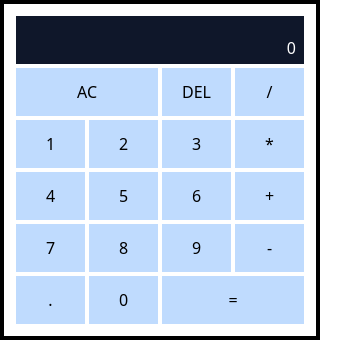
Test: Calculator › renders the right digit 0 to 9 and . in the current operand field
Step 1. Click the button "1" → (50, 144), box [16,120,85,168]
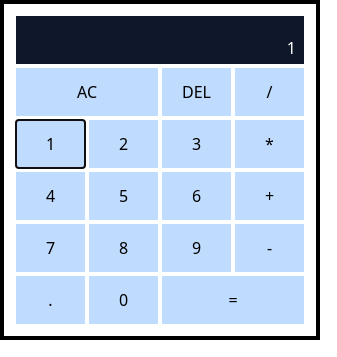
Step 2. Click the button "2" → (124, 144), box [89,120,158,168]
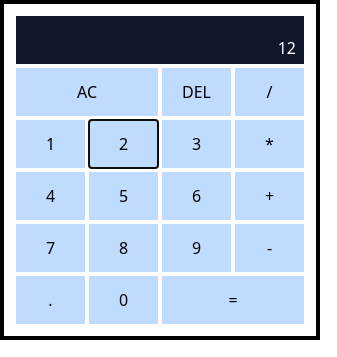
Step 3. Click the button "3" → (196, 144), box [162,120,231,168]
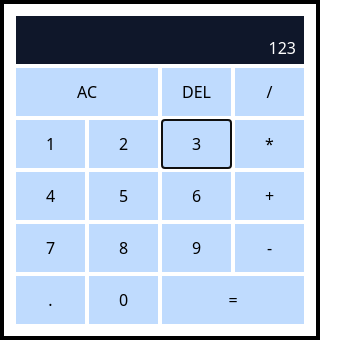
Result: the text "123" is shown at [268,37,296,59]
